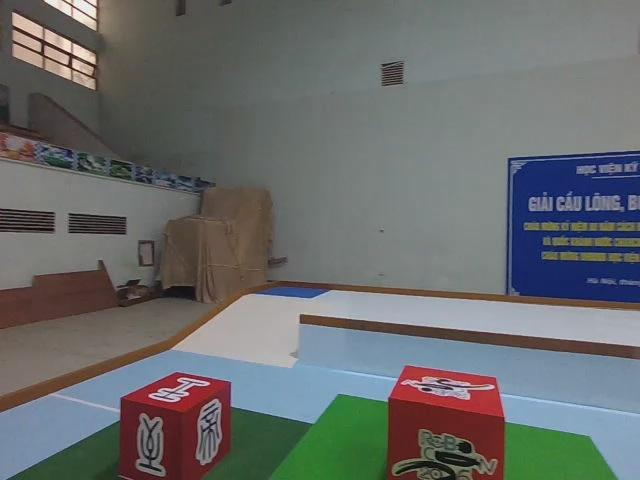R1: (383, 361, 509, 480)
R2 Fake: (116, 368, 234, 480)
